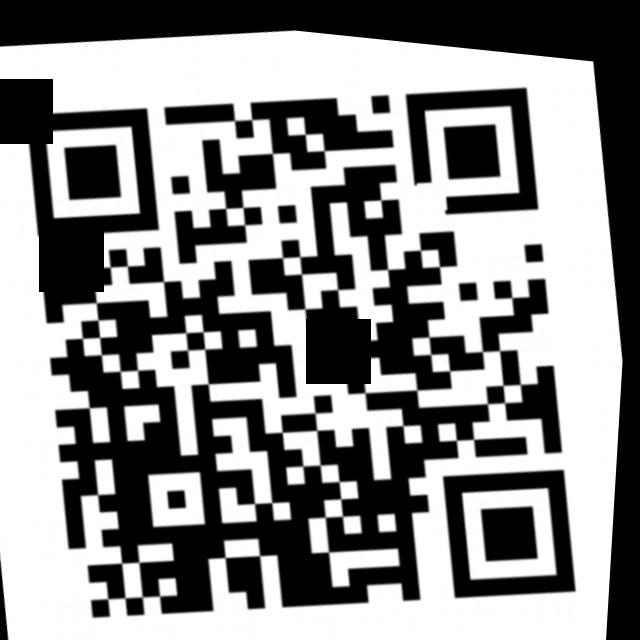QR_CODE: (0, 14, 627, 640)
